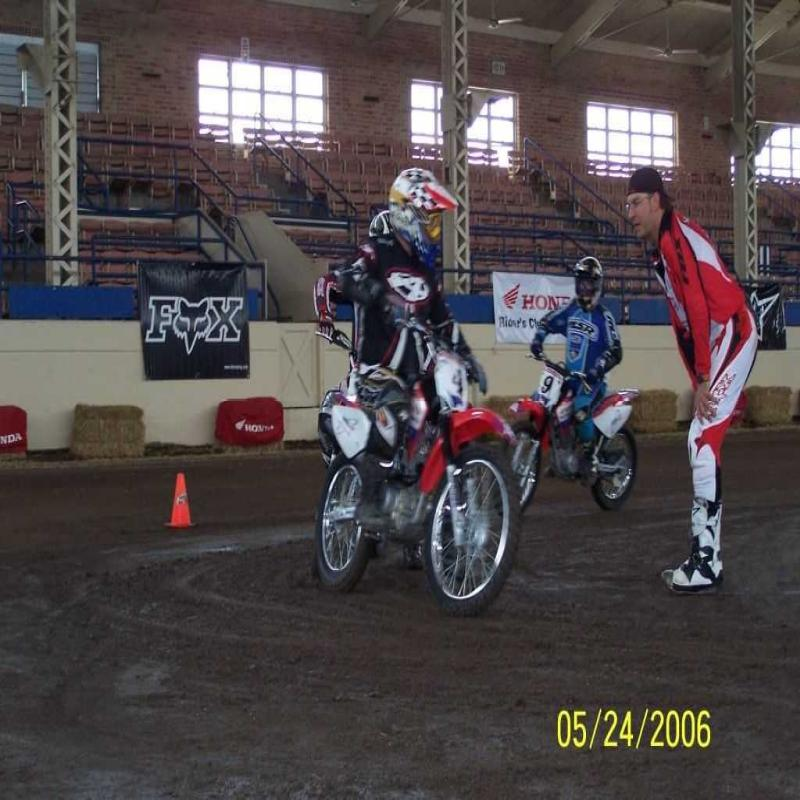bike: (306, 296, 522, 624), (508, 363, 656, 533)
